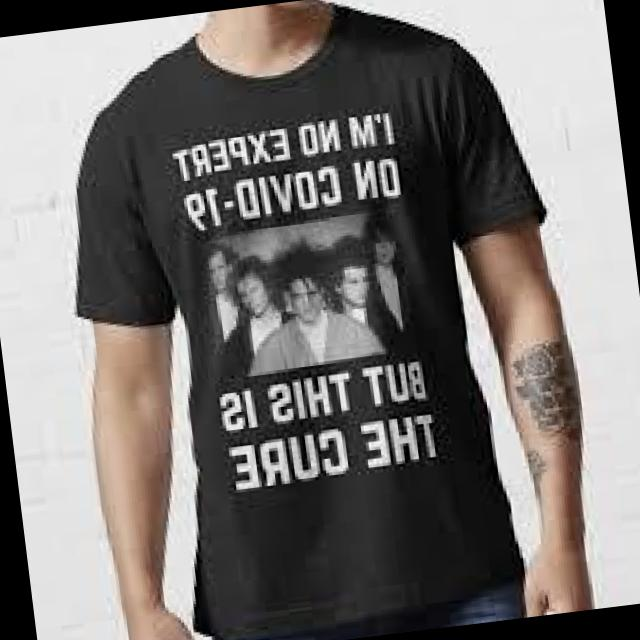Tshirt: (41, 0, 598, 640)
